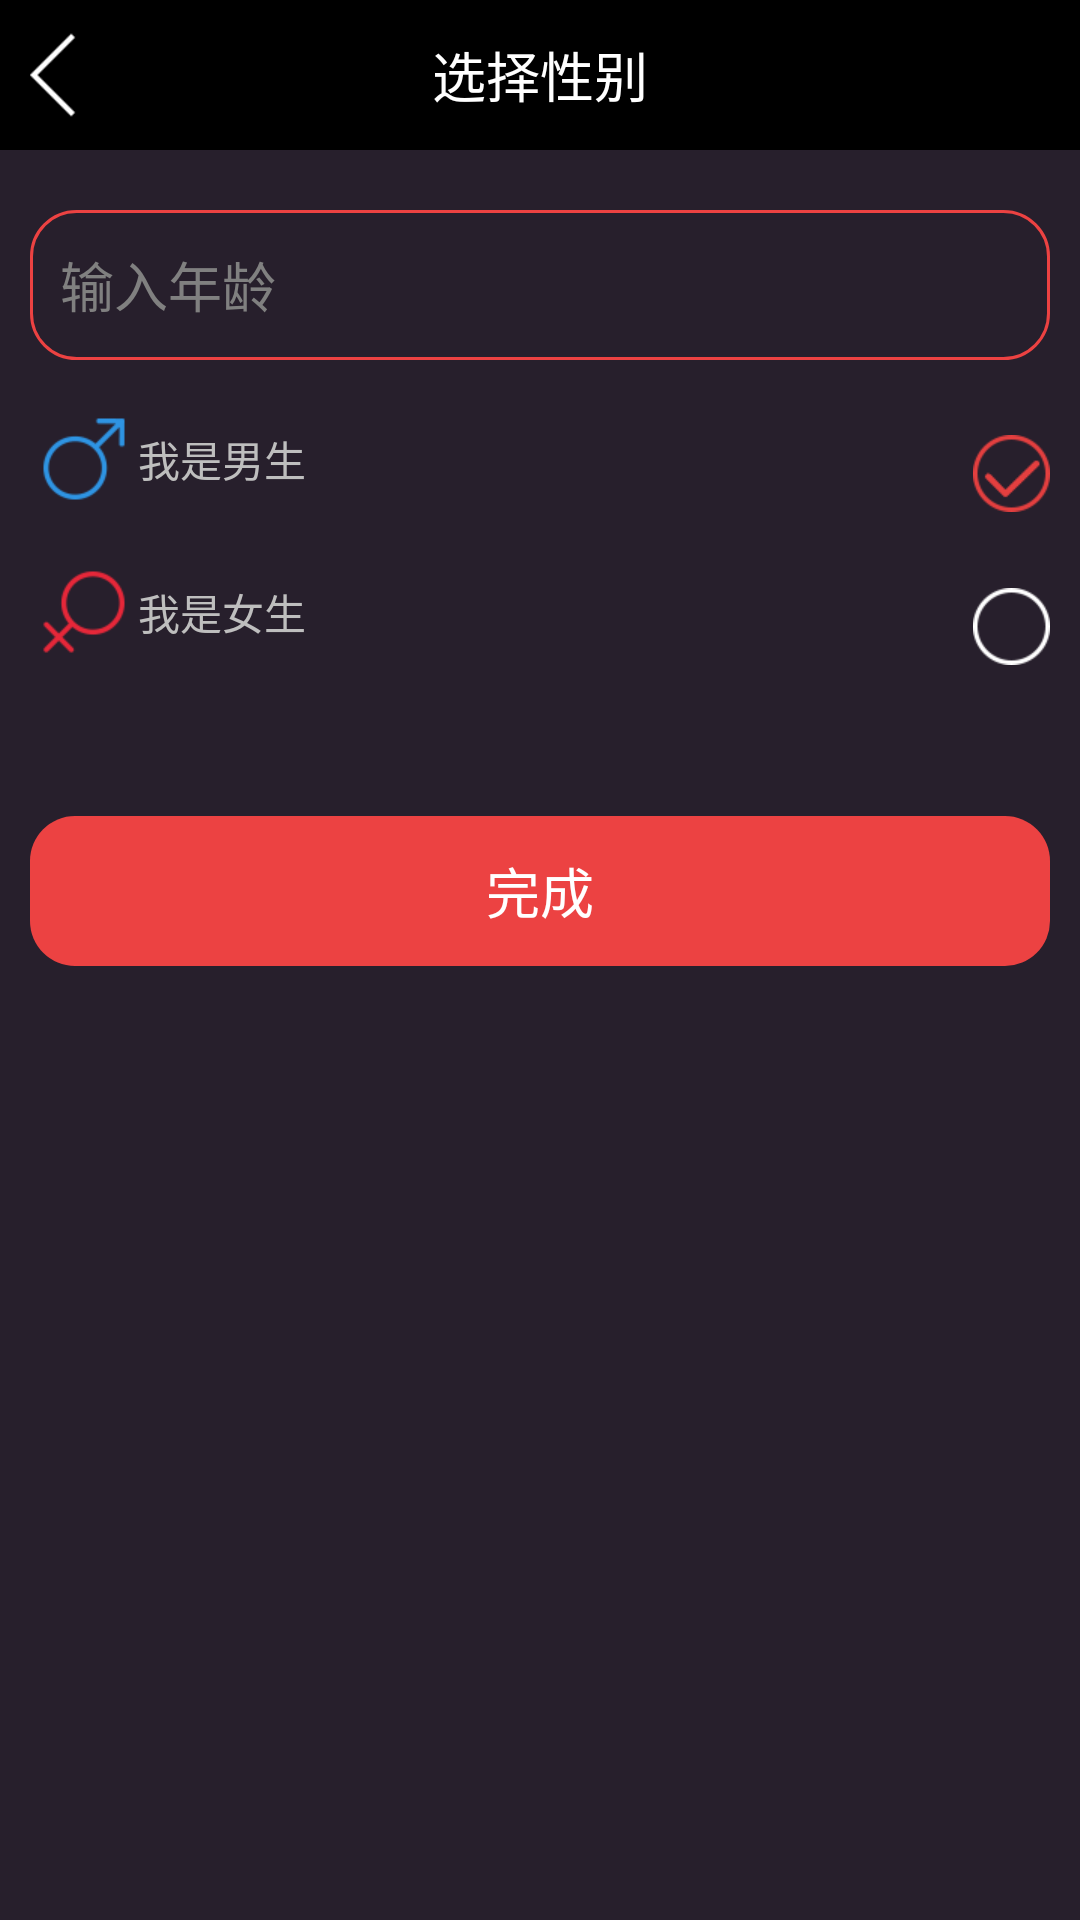

Screen size 1080x1920. Icon name, then its center in pixels as (x,y):
cked: (1011,473)
